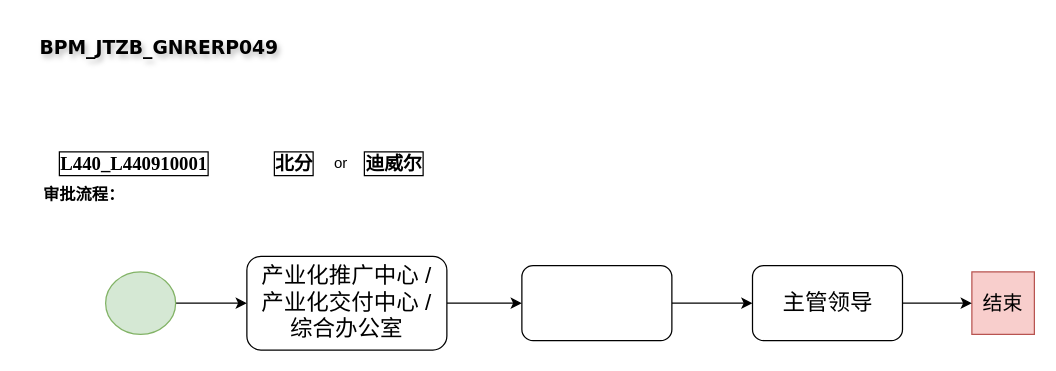
This 1056x371 diagram has some shape labels left out. Each missing label, with the centre of its shape:
开始: pixel 140 302
财务部经理: pixel 596 302
